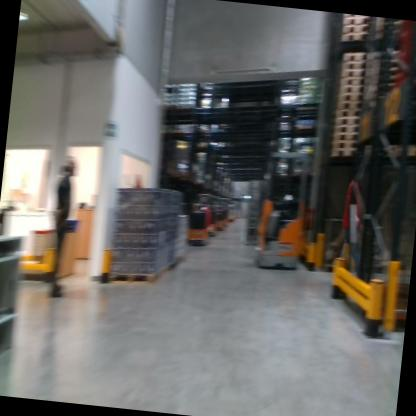forklift: (248, 104, 320, 276)
